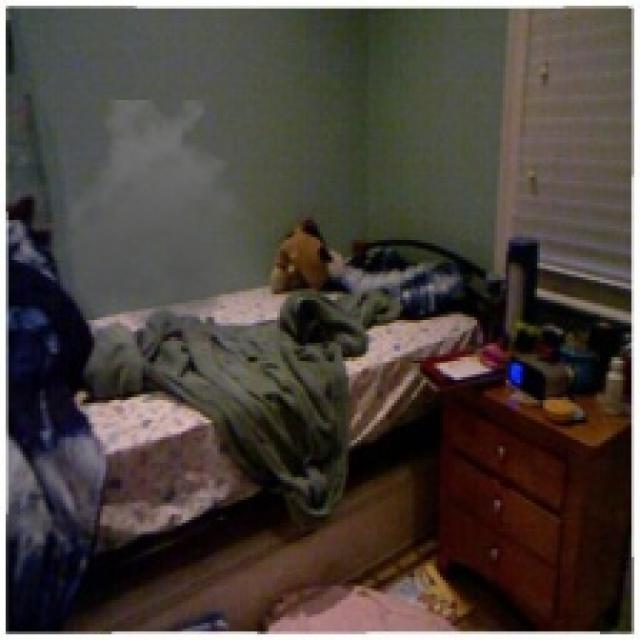smoke: (54, 100, 263, 340)
